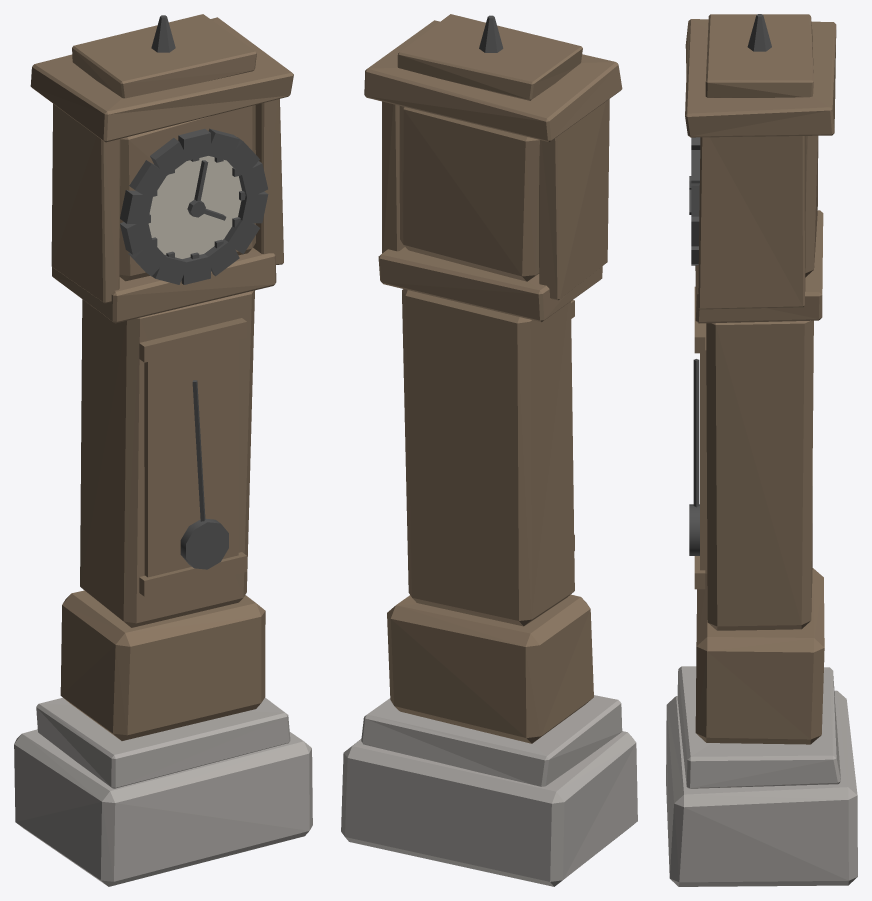
File: standing_clock.glb
3 renders of one model, left to right at view 1: azimuth 30°, elevation 25°; view 2: azimuth 150°, elevation 25°; view 3: azimuth 270°, elevation 25°, orthographic.
Parts seen in each view (by area): view 1: wood, stone, iron, plaster; view 2: wood, stone, iron; view 3: wood, stone, iron.
Boxes of the visible parts, x1=… form: wood: x1=30, y1=14, x2=293, y2=740; stone: x1=14, y1=697, x2=312, y2=886; iron: x1=120, y1=15, x2=268, y2=569; plaster: x1=148, y1=156, x2=241, y2=258; wood: x1=364, y1=14, x2=622, y2=743; stone: x1=341, y1=695, x2=637, y2=886; iron: x1=479, y1=15, x2=503, y2=52; wood: x1=685, y1=14, x2=836, y2=744; stone: x1=666, y1=666, x2=857, y2=886; iron: x1=689, y1=14, x2=771, y2=555.
Bounding box in the file's own units: 0.7352 × 2.58 × 0.5453.
